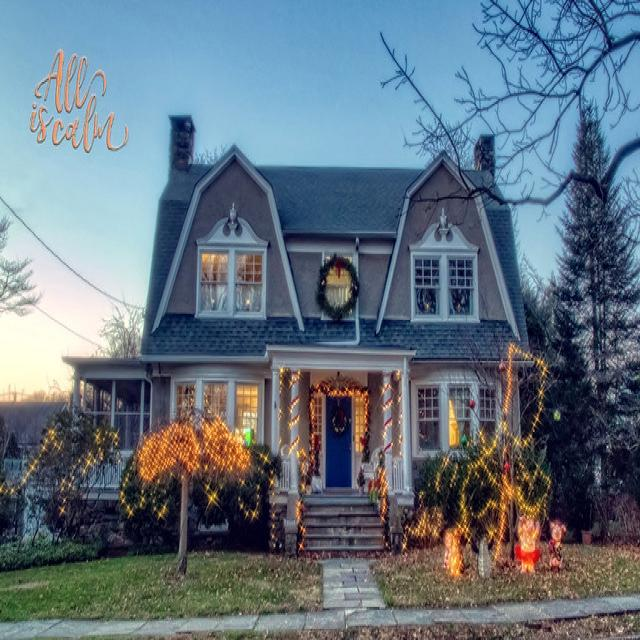building: (61, 116, 541, 560)
